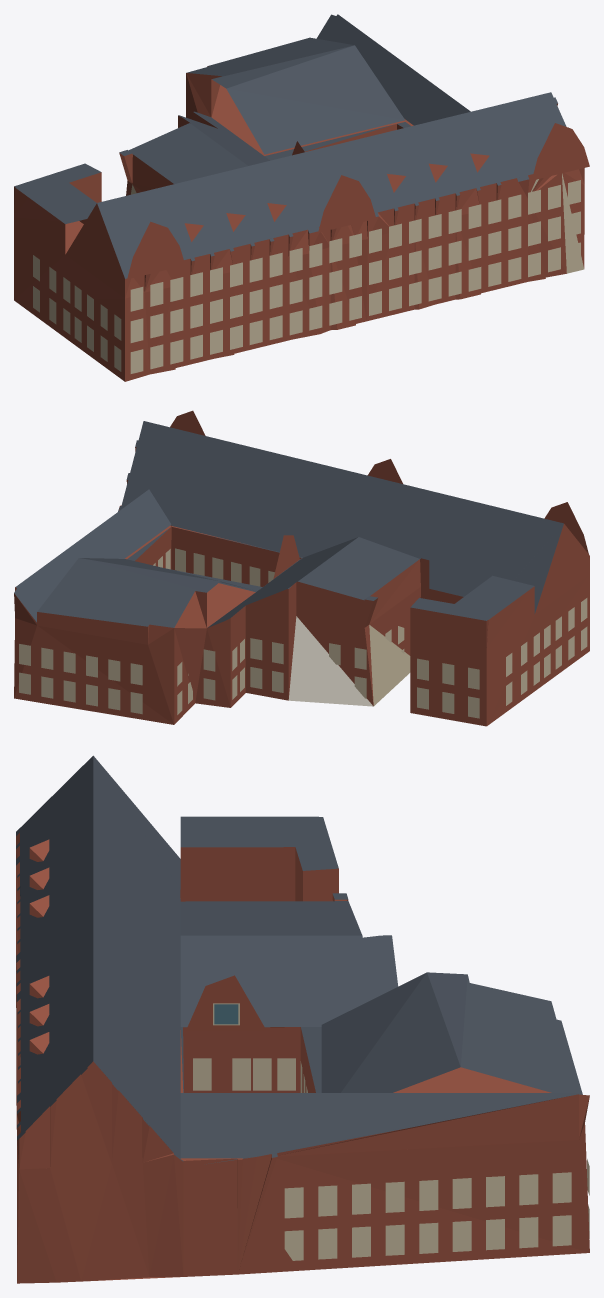
File: oost-indisch-huis.lod2.glb
3 views of the same model, one above another, from view 1: azimuth 30°, elevation 25°; view 2: azimuth 150°, elevation 25°; view 3: azimuth 270°, elevation 25° (orthographic). The views are drawn at different scales.
Parts seen in each view (by area): view 1: lod2; view 2: lod2; view 3: lod2.
Boxes of the visible parts, x1,y1,x2,y2 form: lod2: (14,14,589,381); lod2: (14,410,589,726); lod2: (16,755,589,1283).
Size of the model in its own units: 65.7 by 21.4 by 51.1.
